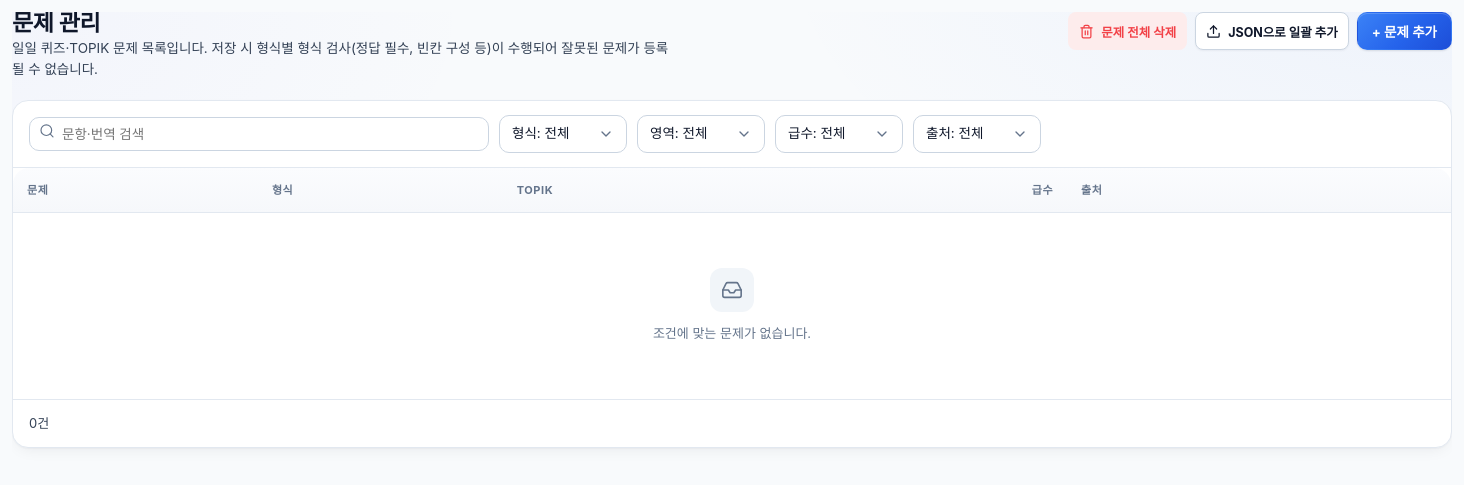
QuizzesPage source filter › filters to AI-generated questions
This screenshot has width=1464, height=485.
Click the button "출처: 전체" at (977, 134), box [913, 115, 1041, 153]
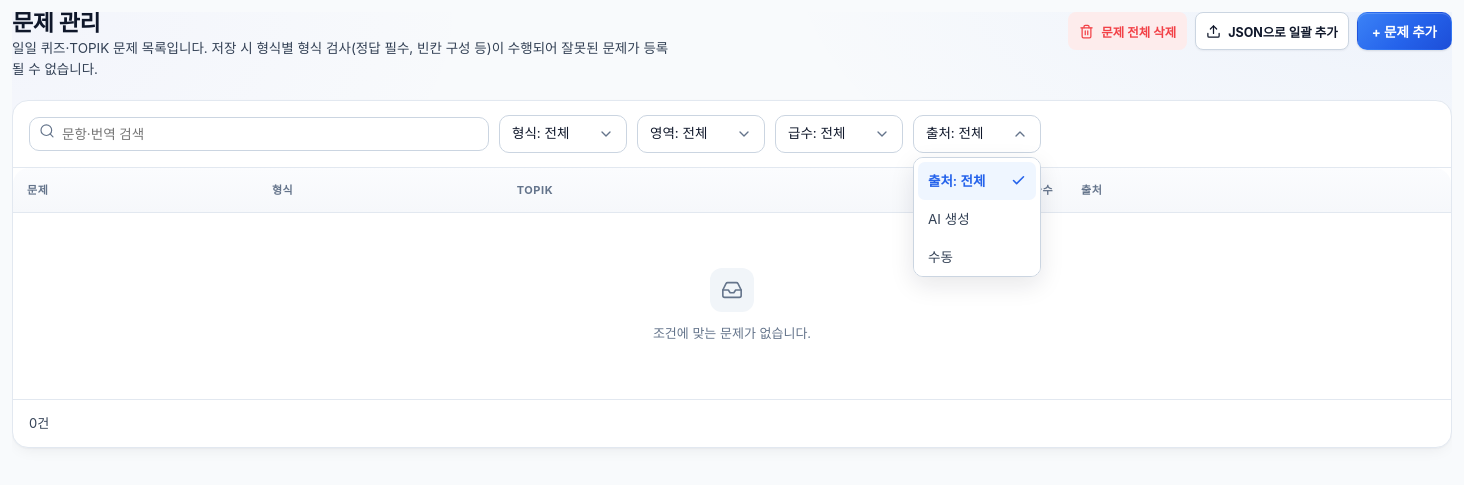
Click the option "AI 생성" at (949, 219), box [928, 211, 970, 227]
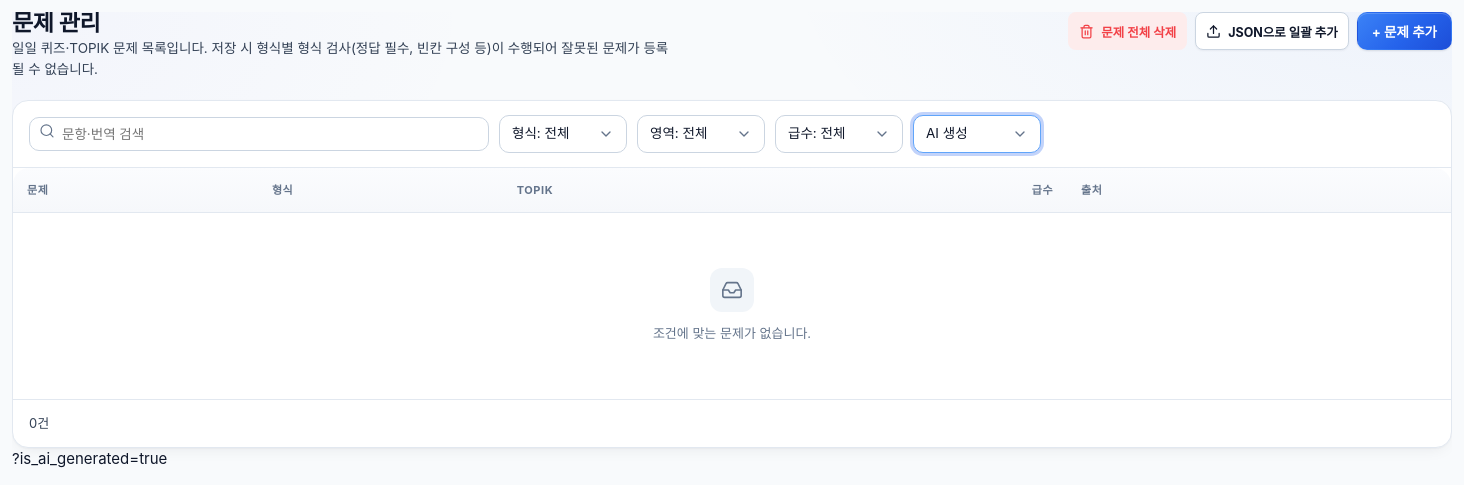
Expected: the text with test id "loc" shows "is_ai_generated=true", [12, 449, 167, 468]
